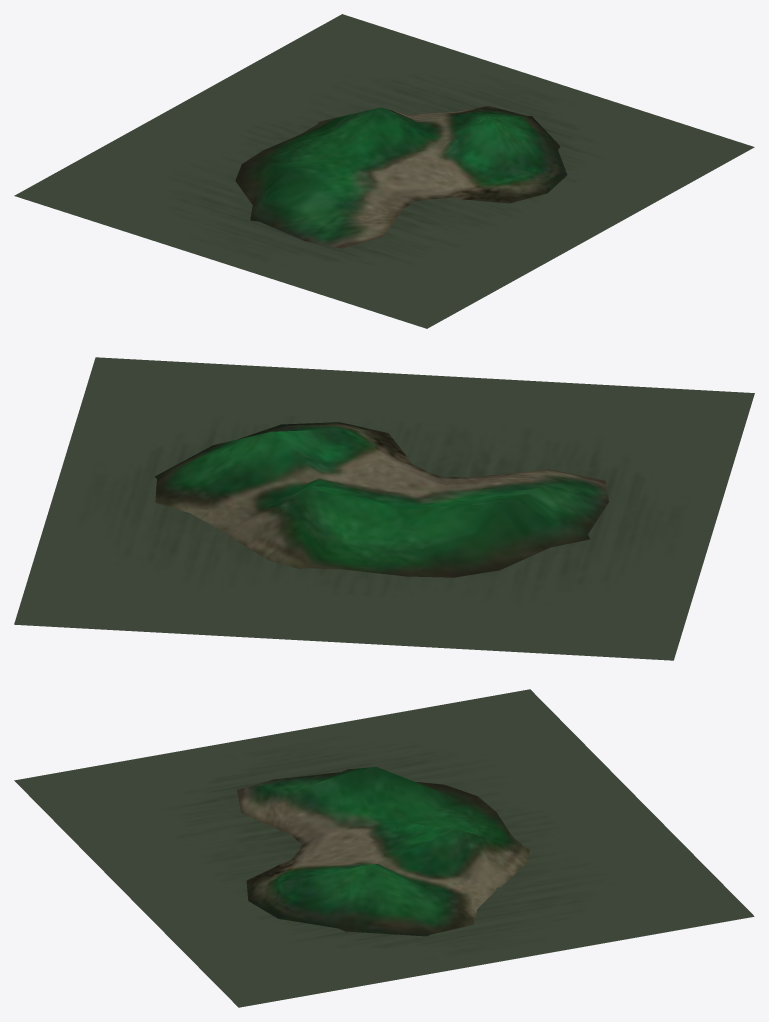
Rendered from pir_m_are_isl_cangrejos_worldmap.fbx.
3 views of the same model, one above another, from view 1: azimuth 30°, elevation 25°; view 2: azimuth 150°, elevation 25°; view 3: azimuth 270°, elevation 25° (orthographic). The views are drawn at different scales.
Visible parts, largest first — view 1: sketchmark, top_mesh; view 2: sketchmark, top_mesh; view 3: sketchmark, top_mesh.
Boxes of the visible parts, x1,y1,x2,y2 form: sketchmark: (14,14,754,328); top_mesh: (235,106,567,248); sketchmark: (14,357,754,660); top_mesh: (155,422,608,577); sketchmark: (14,689,754,1007); top_mesh: (237,767,529,936).
Size of the model in its own units: 19.62 by 1.08 by 19.29.
2 materials, 2 textured.
